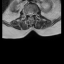CCS_normal: (29, 10, 31, 18)
LFS_normal: (33, 10, 35, 16)
LLS_normal: (31, 11, 33, 16)
RFS_stenosis: (26, 11, 28, 16)
RLS_normal: (28, 10, 29, 16)
